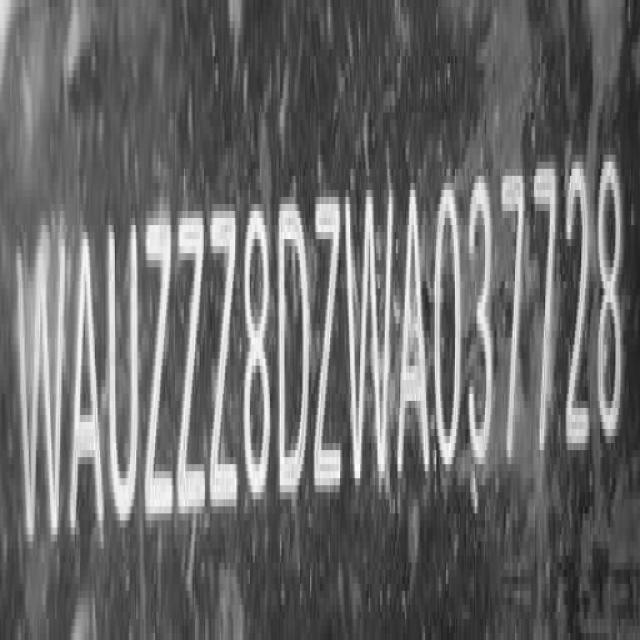0: (432, 180, 462, 484)
2: (563, 153, 591, 458)
3: (467, 169, 493, 474)
7: (531, 154, 560, 472), (502, 167, 528, 474)
8: (245, 204, 274, 513), (598, 152, 626, 447)
A: (71, 214, 105, 551), (398, 180, 432, 492)
D: (278, 195, 309, 508)
U: (106, 199, 140, 538)
W: (17, 215, 66, 566), (345, 180, 395, 490)
Z: (208, 204, 240, 526), (142, 206, 172, 540), (313, 182, 342, 504), (180, 203, 208, 535)
